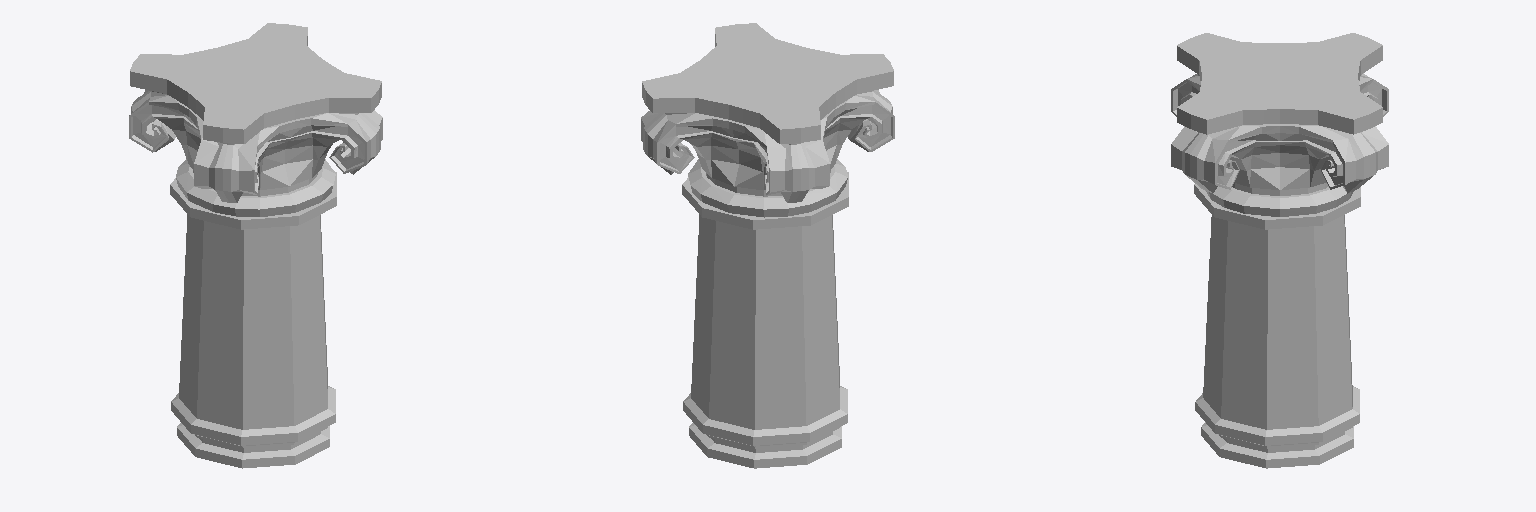
Rendered from column2.obj.
3 views of the same model, side by side, from view 1: azimuth 30°, elevation 25°; view 2: azimuth 150°, elevation 25°; view 3: azimuth 270°, elevation 25° (orthographic).
Parts seen in each view (by area): view 1: column2_Column.001; view 2: column2_Column.001; view 3: column2_Column.001.
Boxes of the visible parts, x1=… form: column2_Column.001: x1=129, y1=23, x2=382, y2=468; column2_Column.001: x1=641, y1=23, x2=894, y2=468; column2_Column.001: x1=1171, y1=33, x2=1388, y2=468.
Size of the model in its own units: 2.08 by 3.77 by 2.07.